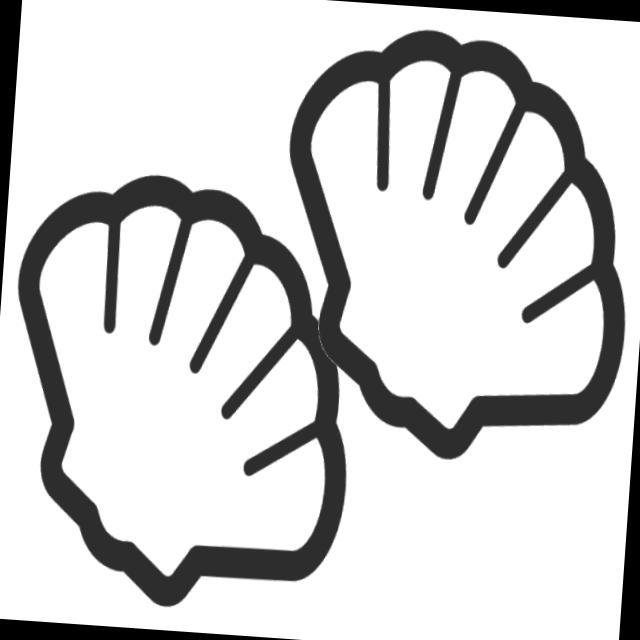shell: (261, 10, 640, 480), (1, 154, 372, 629)
